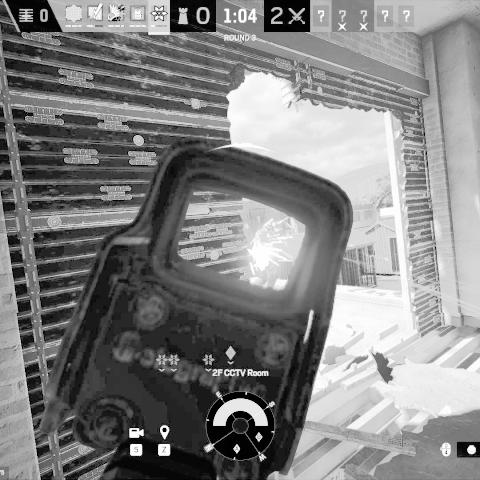Character: (249, 219, 283, 288)
Head: (266, 220, 276, 232)
